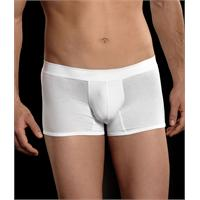mutande: (40, 54, 164, 135)
